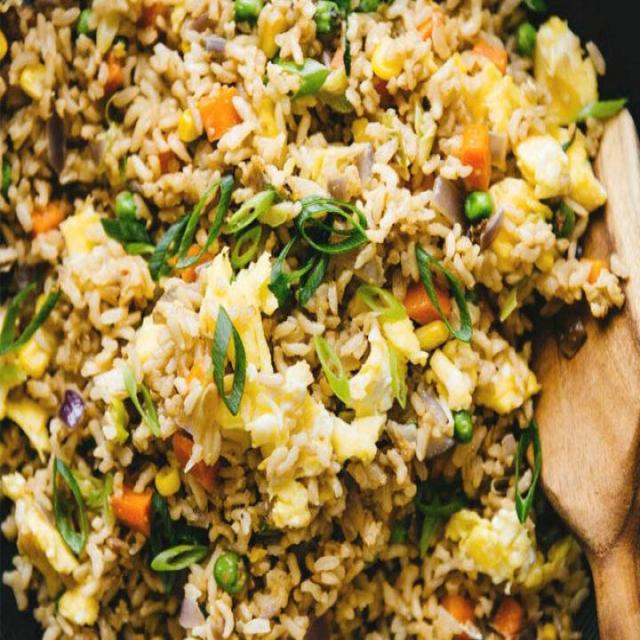Nasi Goreng: (1, 0, 627, 638)
